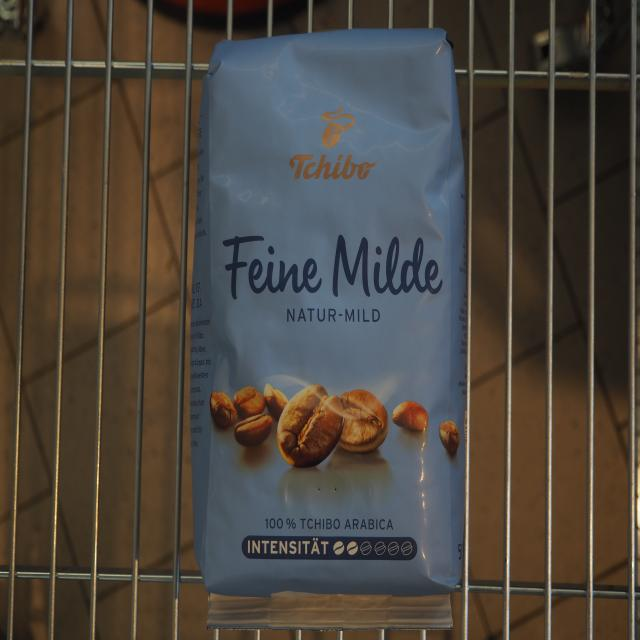FM Bohne: (187, 21, 471, 636)
